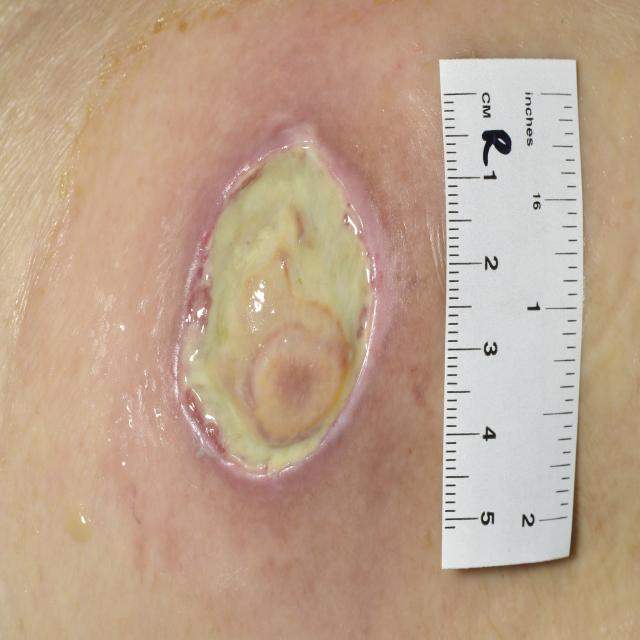wound: (174, 139, 378, 480)
